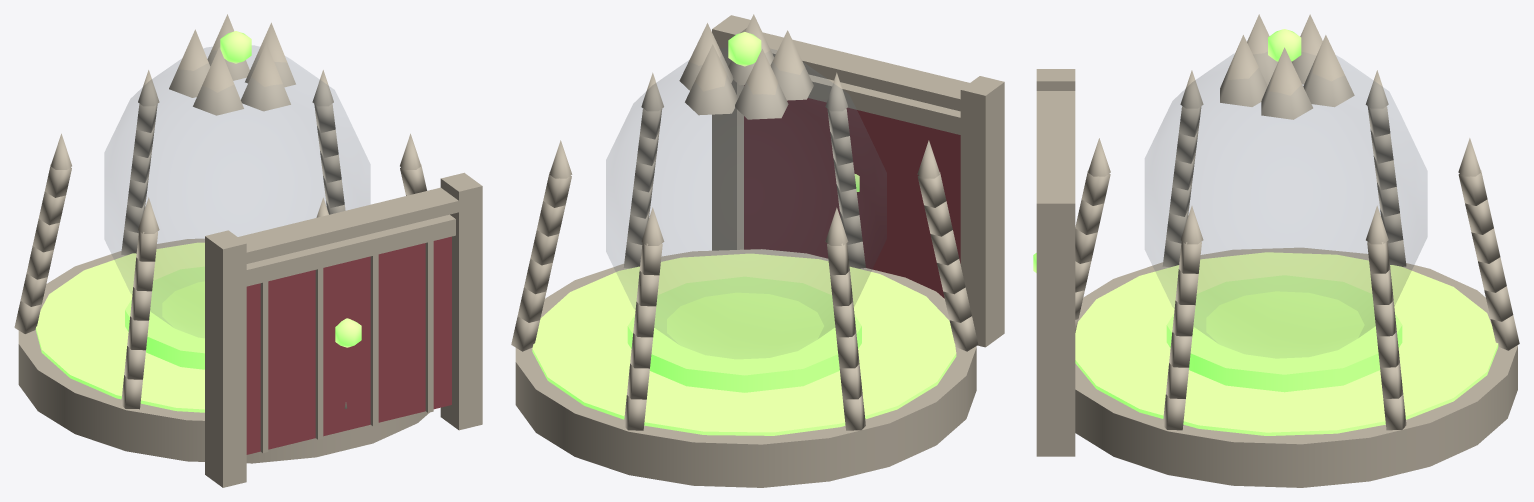
Rendered from MonsterHub_BLOOM_Hatchery.glb.
3 renders of one model, left to right at view 1: azimuth 30°, elevation 25°; view 2: azimuth 150°, elevation 25°; view 3: azimuth 270°, elevation 25°, orthographic. The views are drawn at different scales.
Parts seen in each view (by area): view 1: MonsterHub_BLOOM_Hatchery, MonsterHub_BLOOM_Hatchery_Gate; view 2: MonsterHub_BLOOM_Hatchery, MonsterHub_BLOOM_Hatchery_Gate; view 3: MonsterHub_BLOOM_Hatchery.
Boxes of the visible parts, x1,y1,x2,y2 form: MonsterHub_BLOOM_Hatchery: (14, 14, 482, 487); MonsterHub_BLOOM_Hatchery_Gate: (246, 214, 455, 454); MonsterHub_BLOOM_Hatchery: (511, 14, 1004, 487); MonsterHub_BLOOM_Hatchery_Gate: (744, 74, 960, 298); MonsterHub_BLOOM_Hatchery: (1036, 14, 1519, 487).
Size of the model in its own units: 4.83 by 4.13 by 5.05.
